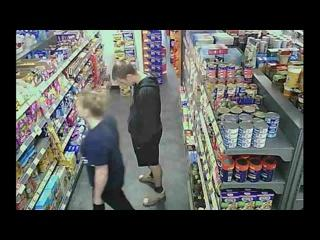Normal: (114, 61, 166, 206), (75, 89, 135, 210)
